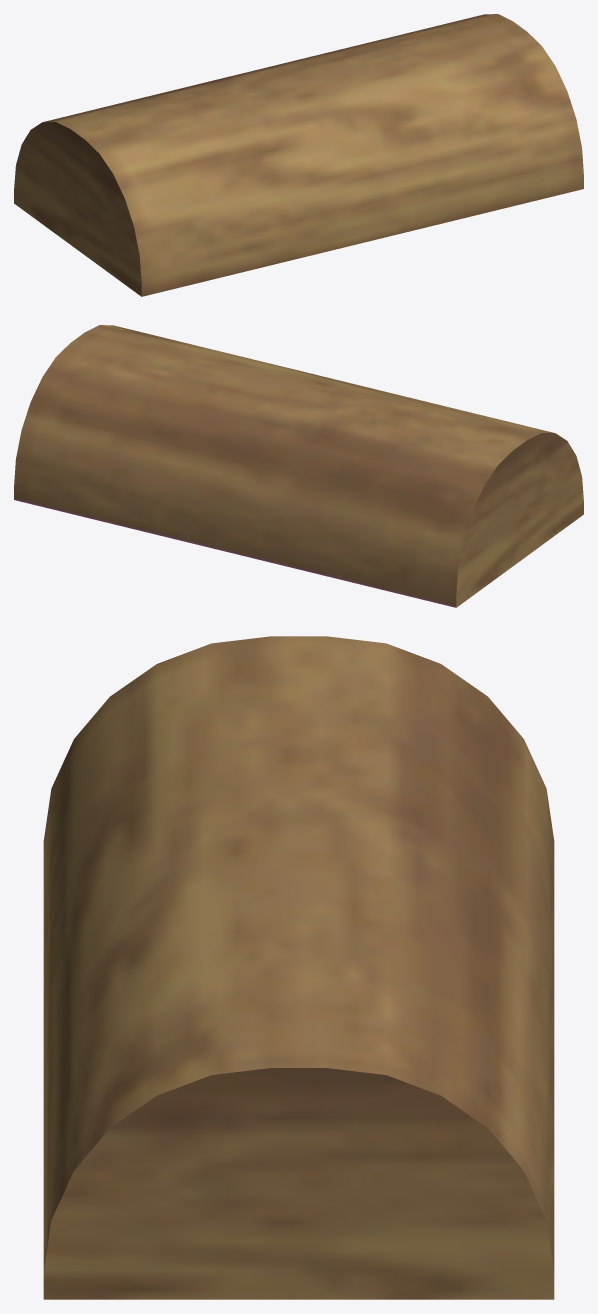
Rendered from DarkSemiCylinder.fbx.
The picture shows the model from 3 angles, top to bottom: view 1: azimuth 30°, elevation 25°; view 2: azimuth 150°, elevation 25°; view 3: azimuth 270°, elevation 25°; orthographic projection. The views are drawn at different scales.
Parts seen in each view (by area): view 1: Cube.021; view 2: Cube.021; view 3: Cube.021.
Part boxes in pixels (x1,y1,x2,y2): Cube.021: (14,14,583,296); Cube.021: (14,325,583,607); Cube.021: (43,636,554,1299).
Bounding box in the file's own units: 800 × 200 × 400.
